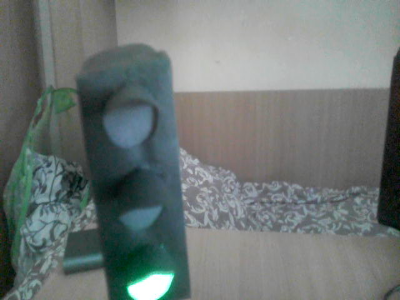trafficlight_green: (83, 83, 190, 300)
